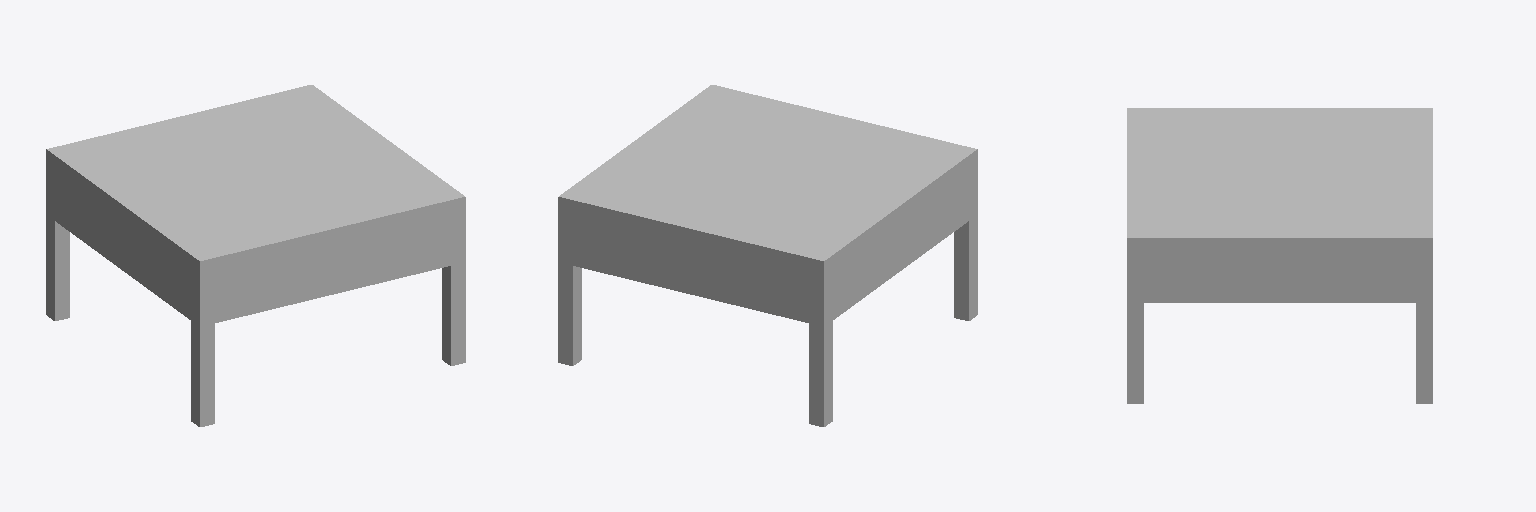
Rendered from table.obj.
3 views of the same model, side by side, from view 1: azimuth 30°, elevation 25°; view 2: azimuth 150°, elevation 25°; view 3: azimuth 270°, elevation 25° (orthographic).
Visible parts, largest first — view 1: Cube.005, Cube, Cube.004, Cube.001, Cube.003; view 2: Cube.005, Cube, Cube.003, Cube.002, Cube.004; view 3: Cube.005, Cube, Cube.001, Cube.002.
Part boxes in pixels (bbox=[...]): Cube.005: bbox=[46, 85, 465, 279]; Cube: bbox=[46, 168, 465, 326]; Cube.004: bbox=[191, 321, 214, 426]; Cube.001: bbox=[442, 262, 465, 365]; Cube.003: bbox=[46, 215, 69, 320]; Cube.005: bbox=[558, 85, 977, 279]; Cube: bbox=[558, 168, 977, 326]; Cube.003: bbox=[809, 321, 832, 426]; Cube.002: bbox=[558, 262, 581, 365]; Cube.004: bbox=[954, 215, 977, 320]; Cube.005: bbox=[1127, 108, 1432, 256]; Cube: bbox=[1127, 257, 1432, 302]; Cube.001: bbox=[1127, 303, 1143, 403]; Cube.002: bbox=[1416, 303, 1432, 403].
Size of the model in its own units: 5.43 by 3.25 by 5.43.